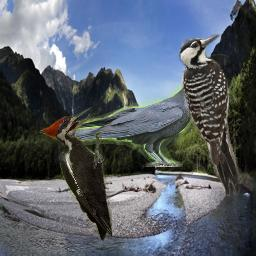Crow: (67, 79, 213, 167)
Woodpecker: (179, 34, 241, 196), (39, 107, 112, 241)
